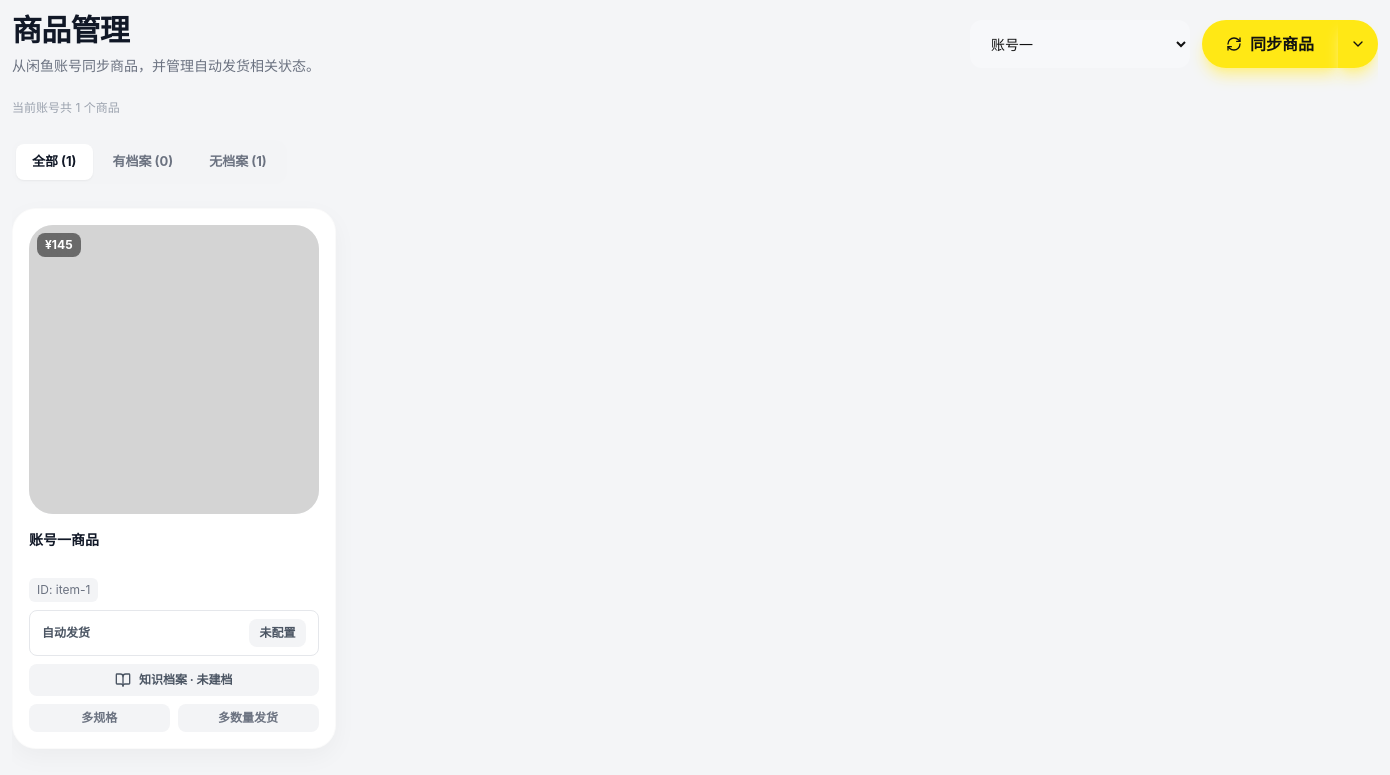
Test: ItemList account filtering › 同步全部账号逐个跑完，单个失败不中断并在末尾汇总
The width and height of the screenshot is (1390, 775).
Expected: the heading "账号一商品" is shown, [29,531,99,548]
Click the button named "更多同步方式" at (1358, 44), box [1338,20,1378,68]
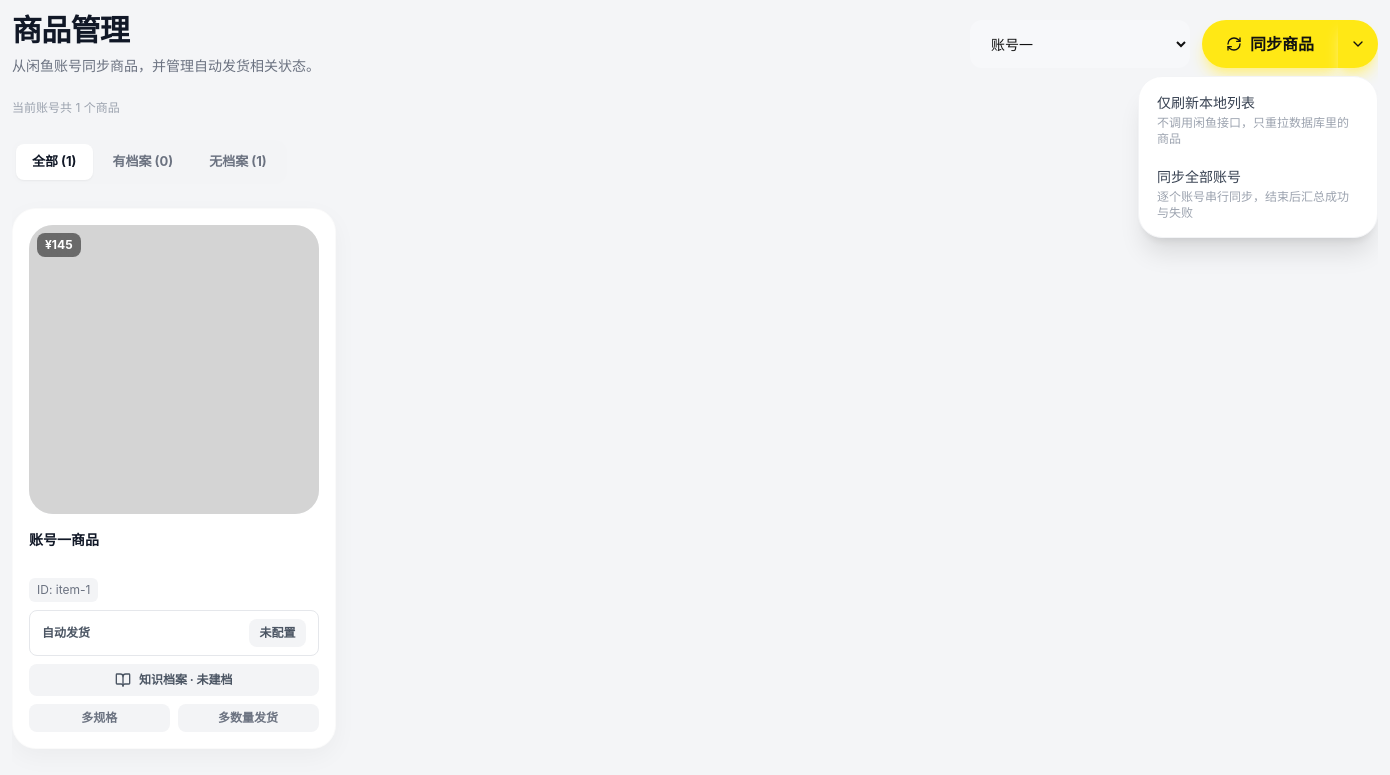
Click the menu item "同步全部账号 逐个账号串行同步，结束后汇总成功与失败" at (1258, 194), box [1145,157,1371,231]
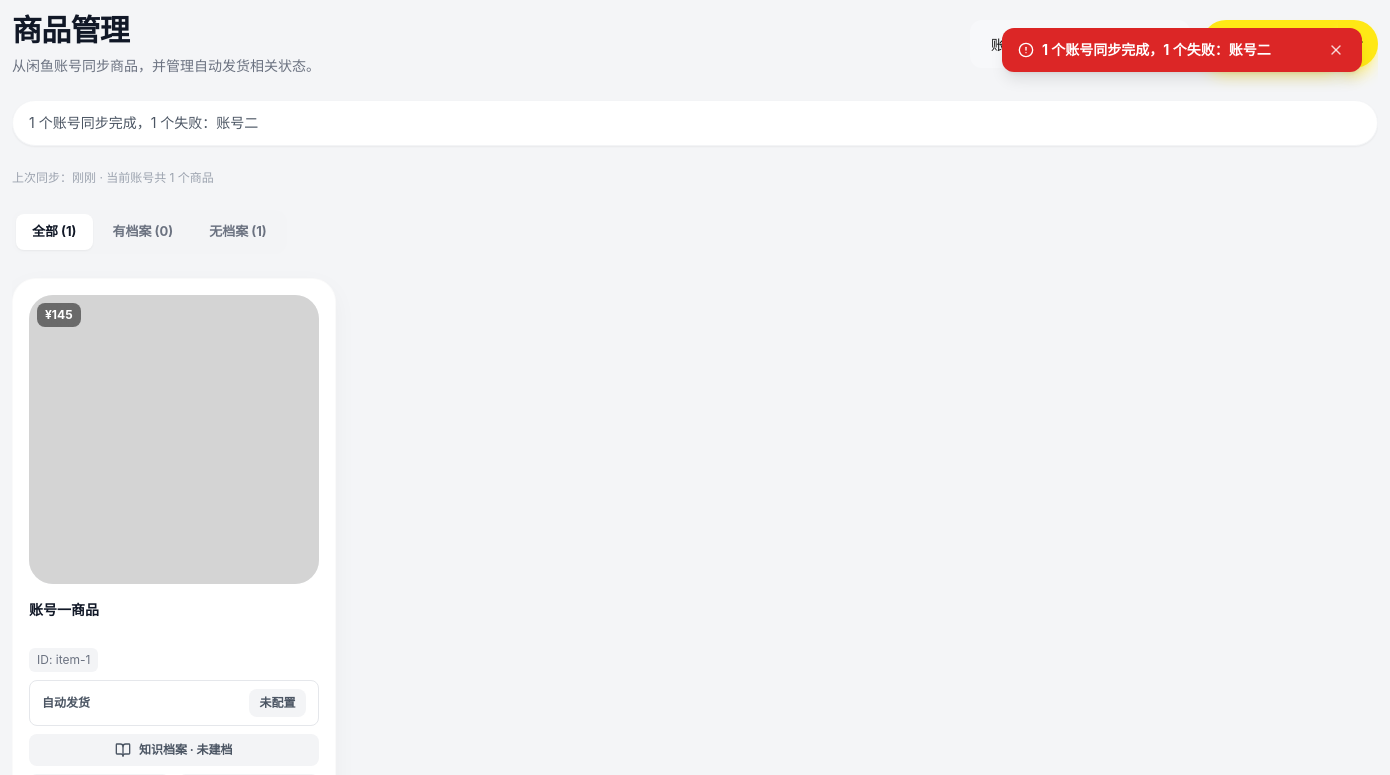
Now the 1st text "1 个账号同步完成，1 个失败：账号二" is shown, box [1042,41,1271,58]
